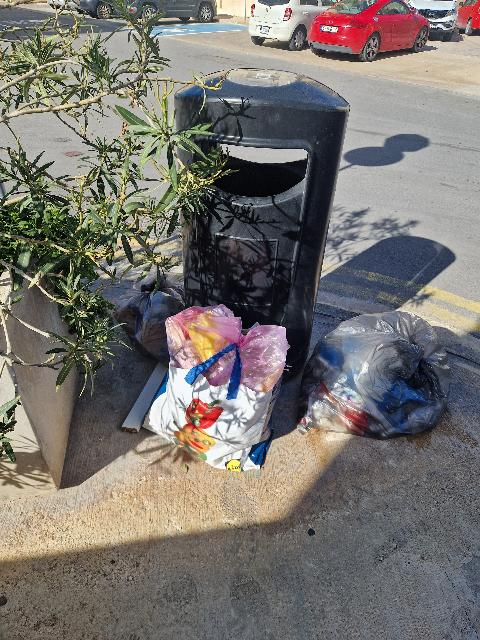Other: (144, 304, 290, 471)
Recyclable -Grey-: (301, 311, 451, 440), (114, 274, 185, 365)
